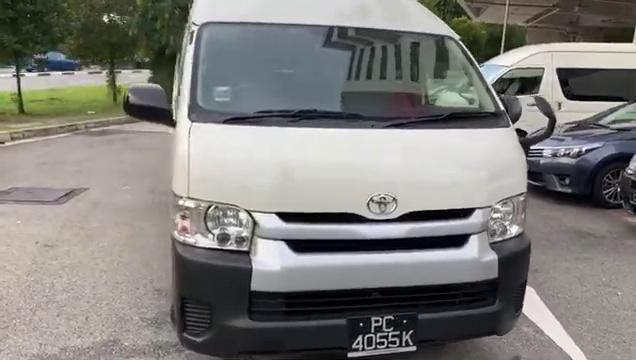Van: (152, 0, 539, 348)
